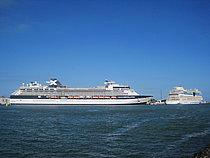Ship: (6, 76, 155, 108), (166, 84, 208, 110)
